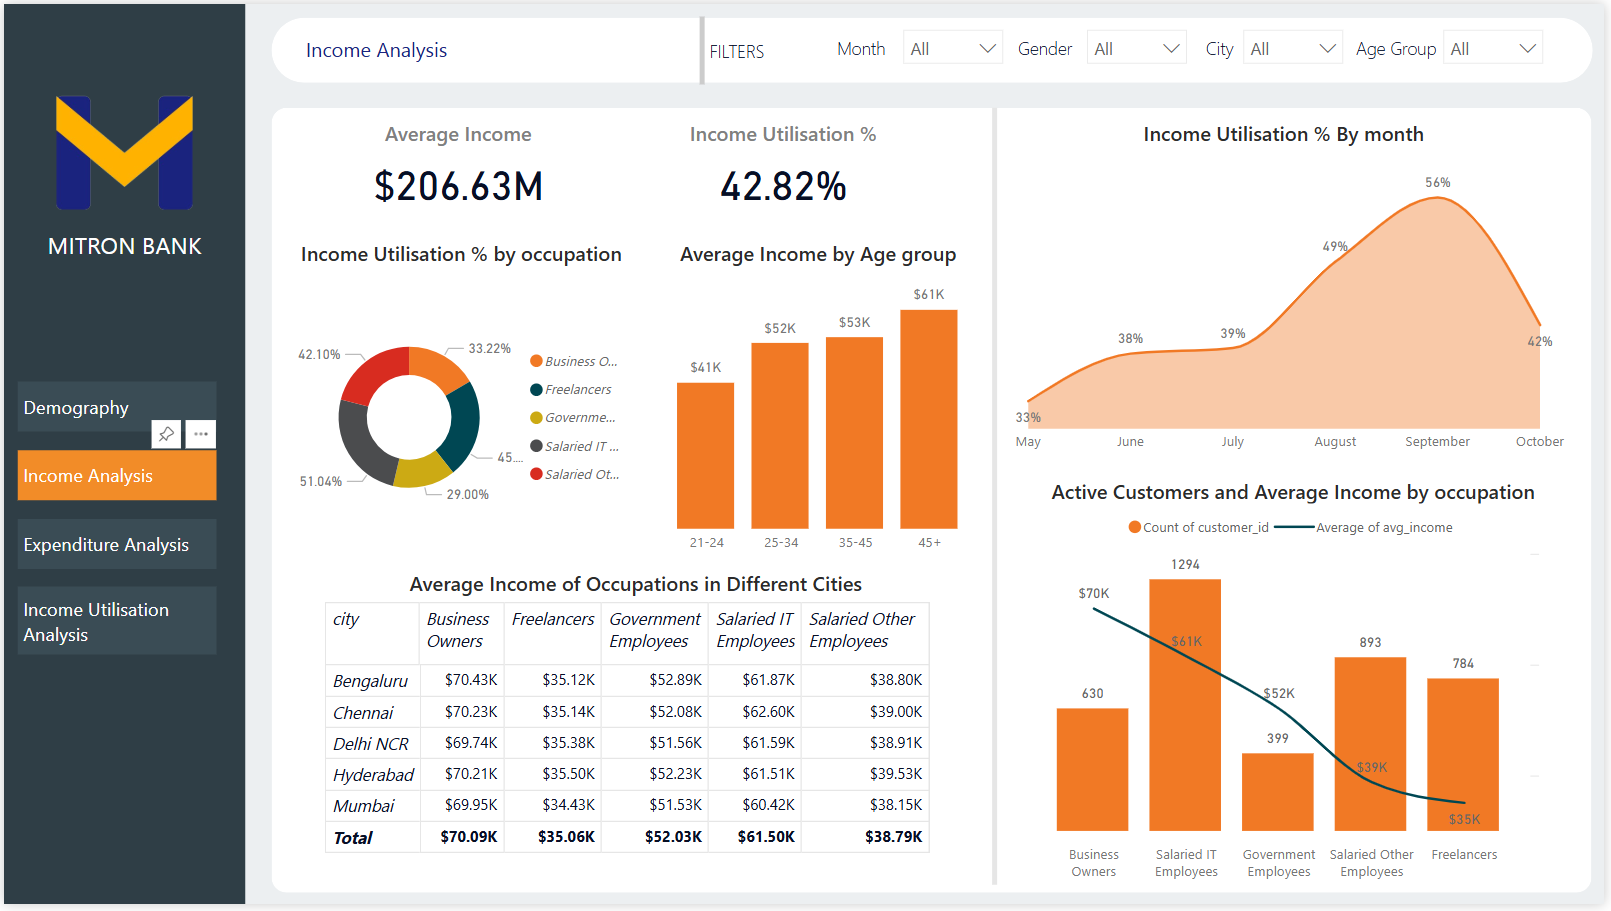

The dashboard page shown, as its layout file describes it:
{"tool":"powerbi","page":{"name":"Income Analysis","canvas":[1280,720],"ordinal":1},"visuals":[{"type":"image","box":[0,0,192,221.2],"z":0,"group":"g4"},{"type":"shape","box":[214.1,11,1056.6,52.1],"z":0,"group":"g1"},{"type":"shape","box":[213.8,82.7,1056.2,628.6],"z":0},{"type":"group","id":"g1","title":"Group 2","box":[214.1,10,1056.6,55],"z":1000},{"type":"textbox","box":[0,175.3,192,45.9],"z":1000,"group":"g4"},{"type":"slicer","fields":{"Values":["fact_spends.month"]},"box":[708.9,10.9,100,45],"z":2000,"group":"g1"},{"type":"columnChart","title":"Average Income by Age group","fields":{"Category":["dim_customers.age_group"],"Y":["Avg(dim_customers.avg_income)"]},"box":[509.1,188.2,283.5,259.4],"z":2000},{"type":"slicer","fields":{"Values":["dim_customers.gender"]},"box":[855.8,10.9,100,45],"z":3000,"group":"g1"},{"type":"donutChart","fields":{"Series":["dim_customers.occupation"],"Y":["fact_spends.Income Utilisation %"]},"box":[222,188.2,287.1,264.2],"z":3000},{"type":"slicer","fields":{"Values":["dim_customers.city"]},"box":[980.7,11.2,100,45],"z":4000,"group":"g1"},{"type":"pivotTable","title":"Average Income of Occupations in Different Cities","fields":{"Rows":["dim_customers.city"],"Columns":["dim_customers.occupation"],"Values":["Avg(dim_customers.avg_income)"]},"box":[250.9,452.4,507.9,243.7],"z":4000},{"type":"slicer","fields":{"Values":["dim_customers.age_group"]},"box":[1141.3,10.9,100,45],"z":5000,"group":"g1"},{"type":"areaChart","title":"Income Utilisation % By month","fields":{"Y":["fact_spends.Income Utilisation %"],"Category":["fact_spends.month"]},"box":[780.6,91.7,485,275.1],"z":5000},{"type":"textbox","box":[558.8,22.5,70,36.2],"z":6000,"group":"g1"},{"type":"lineStackedColumnComboChart","title":"Active Customers and Average Income by occupation","fields":{"Category":["dim_customers.occupation"],"Y2":["Avg(dim_customers.avg_income)"],"Y":["CountNonNull(dim_customers.customer_id)"]},"box":[796.3,377.6,469.3,331.8],"z":6000},{"type":"textbox","box":[796,21.3,72.7,32.7],"z":7000,"group":"g1"},{"type":"shape","box":[774.5,83.2,35,621.3],"z":7000},{"type":"textbox","box":[955.7,21.2,41.2,36.2],"z":8000,"group":"g1"},{"type":"card","title":"Income Utilisation %","fields":{"Values":["fact_spends.Income Utilisation %"]},"box":[498.3,91.7,249.7,80.8],"z":8000},{"type":"textbox","box":[1076,21.3,96,37.3],"z":9000,"group":"g1"},{"type":"card","title":"Average Income","fields":{"Values":["Sum(dim_customers.avg_income)"]},"box":[240.1,91.7,246.1,80.8],"z":9000},{"type":"actionButton","box":[10.9,466.9,159.3,54.3],"z":9000,"group":"g2"},{"type":"shape","box":[541.3,10,35,55],"z":10000,"group":"g1"},{"type":"textbox","box":[236,20,282,36],"z":10000},{"type":"actionButton","title":"HOME","box":[11.2,302.4,158.7,40],"z":10000,"group":"g2"},{"type":"group","id":"g2","title":"Group 3","box":[10.9,302.4,159.3,218.8],"z":10001,"group":"g3"},{"type":"shape","box":[0,0,192.6,720.2],"z":11000},{"type":"textbox","box":[661.4,21.3,58,36],"z":11000,"group":"g1"},{"type":"actionButton","title":"HOME","box":[11.2,357.4,158.7,40],"z":11000,"group":"g2"},{"type":"group","id":"g3","title":"Group 1","box":[10.9,302.4,159.3,218.8],"z":12000},{"type":"actionButton","title":"HOME","box":[11.2,412.4,158.7,40],"z":12000,"group":"g2"},{"type":"group","id":"g4","title":"Group 4","box":[0,0,192,221.2],"z":13000}]}

Visuals, with their boxes on the page's 1280x720 design canvas (x1, y1, x2, y2). These are canvas units, not pixel positions in the 1611x911 screenshot, which may show the page scaled, cropped or inside an application window:
image: [0, 0, 192, 221]
shape: [214, 11, 1271, 63]
shape: [214, 83, 1270, 711]
"Group 2" group: [214, 10, 1271, 65]
textbox: [0, 175, 192, 221]
slicer - fact_spends.month: [709, 11, 809, 56]
"Average Income by Age group" columnChart: [509, 188, 793, 448]
slicer - dim_customers.gender: [856, 11, 956, 56]
donutChart - dim_customers.occupation x fact_spends.Income Utilisation %: [222, 188, 509, 452]
slicer - dim_customers.city: [981, 11, 1081, 56]
"Average Income of Occupations in Different Cities" pivotTable: [251, 452, 759, 696]
slicer - dim_customers.age_group: [1141, 11, 1241, 56]
"Income Utilisation % By month" areaChart: [781, 92, 1266, 367]
textbox: [559, 22, 629, 59]
"Active Customers and Average Income by occupation" lineStackedColumnComboChart: [796, 378, 1266, 709]
textbox: [796, 21, 869, 54]
shape: [774, 83, 810, 704]
textbox: [956, 21, 997, 57]
"Income Utilisation %" card: [498, 92, 748, 172]
textbox: [1076, 21, 1172, 59]
"Average Income" card: [240, 92, 486, 172]
actionButton: [11, 467, 170, 521]
shape: [541, 10, 576, 65]
textbox: [236, 20, 518, 56]
"HOME" actionButton: [11, 302, 170, 342]
"Group 3" group: [11, 302, 170, 521]
shape: [0, 0, 193, 720]
textbox: [661, 21, 719, 57]
"HOME" actionButton: [11, 357, 170, 397]
"Group 1" group: [11, 302, 170, 521]
"HOME" actionButton: [11, 412, 170, 452]
"Group 4" group: [0, 0, 192, 221]
